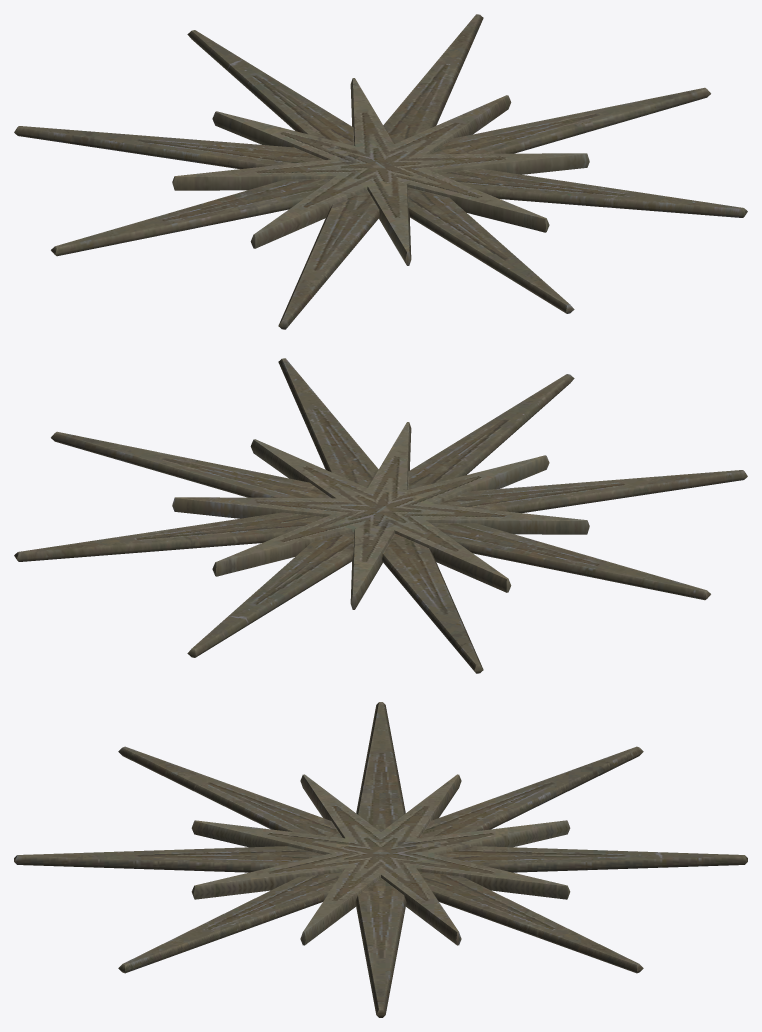
The model's file is bg_rad_kamen_deco02_sm_hhk.obj.
3 renders of one model, top to bottom at view 1: azimuth 30°, elevation 25°; view 2: azimuth 150°, elevation 25°; view 3: azimuth 270°, elevation 25°, orthographic. The views are drawn at different scales.
Parts seen in each view (by area): view 1: bg_rad_kamen_deco02_sm_hhk_0; view 2: bg_rad_kamen_deco02_sm_hhk_0; view 3: bg_rad_kamen_deco02_sm_hhk_0.
Boxes of the visible parts, x1,y1,x2,y2 form: bg_rad_kamen_deco02_sm_hhk_0: (14, 14, 747, 329); bg_rad_kamen_deco02_sm_hhk_0: (14, 358, 747, 673); bg_rad_kamen_deco02_sm_hhk_0: (14, 702, 747, 1017).
Size of the model in its own units: 4 by 0.08 by 4.
1 material, 1 textured.
